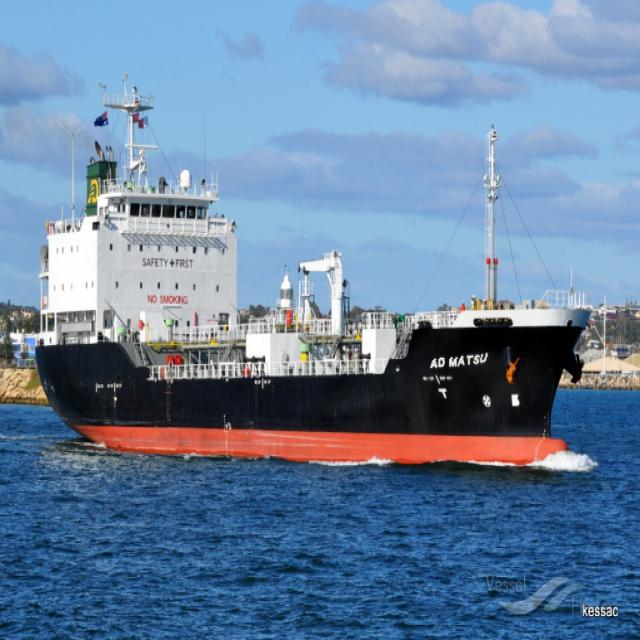OCR: (426, 352, 495, 375)
